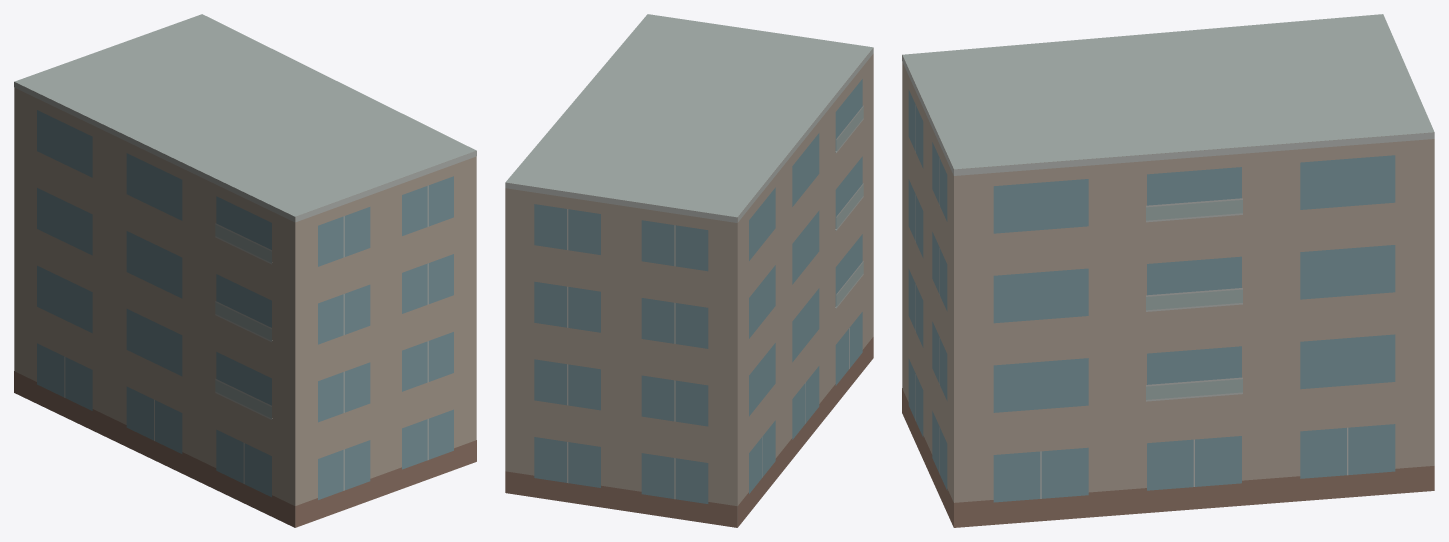
File: survey-upis-32894572.glb
The picture shows the model from 3 angles, left to right: view 1: azimuth 30°, elevation 25°; view 2: azimuth 150°, elevation 25°; view 3: azimuth 270°, elevation 25°; orthographic projection. The views are drawn at different scales.
Visible parts, largest first — view 1: survey-upis-32894572.tmp; view 2: survey-upis-32894572.tmp; view 3: survey-upis-32894572.tmp.
Part boxes in pixels (<box>): survey-upis-32894572.tmp: <box>14,14,476,527</box>; survey-upis-32894572.tmp: <box>505,14,873,527</box>; survey-upis-32894572.tmp: <box>902,14,1434,527</box>.
Bounding box in the file's own units: 12.28 × 13.2 × 17.78.
